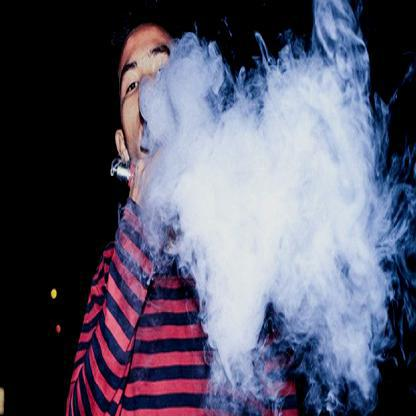smoke: (172, 52, 384, 357)
